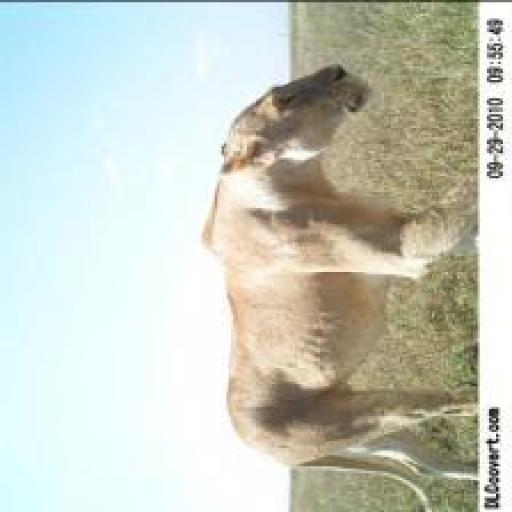lion: (160, 37, 482, 504)
